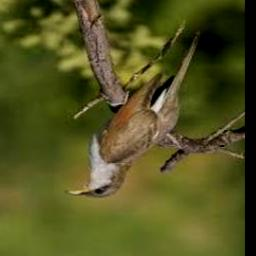Cuckoo: (65, 34, 202, 199)
